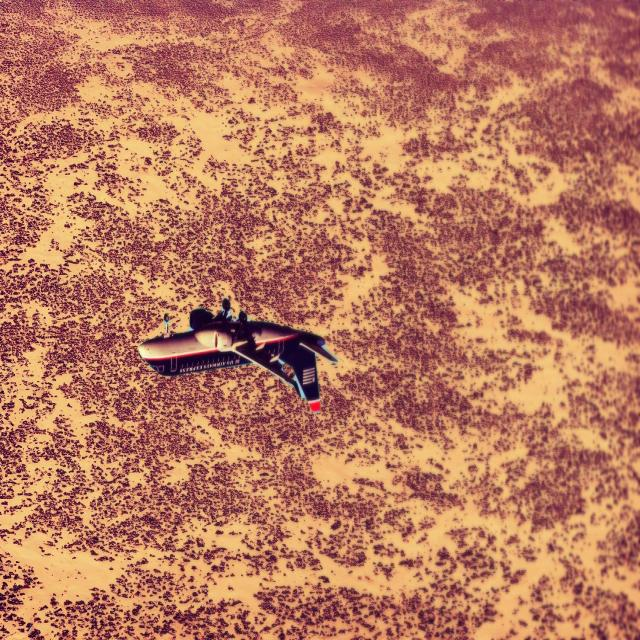airplane: (138, 297, 338, 413)
